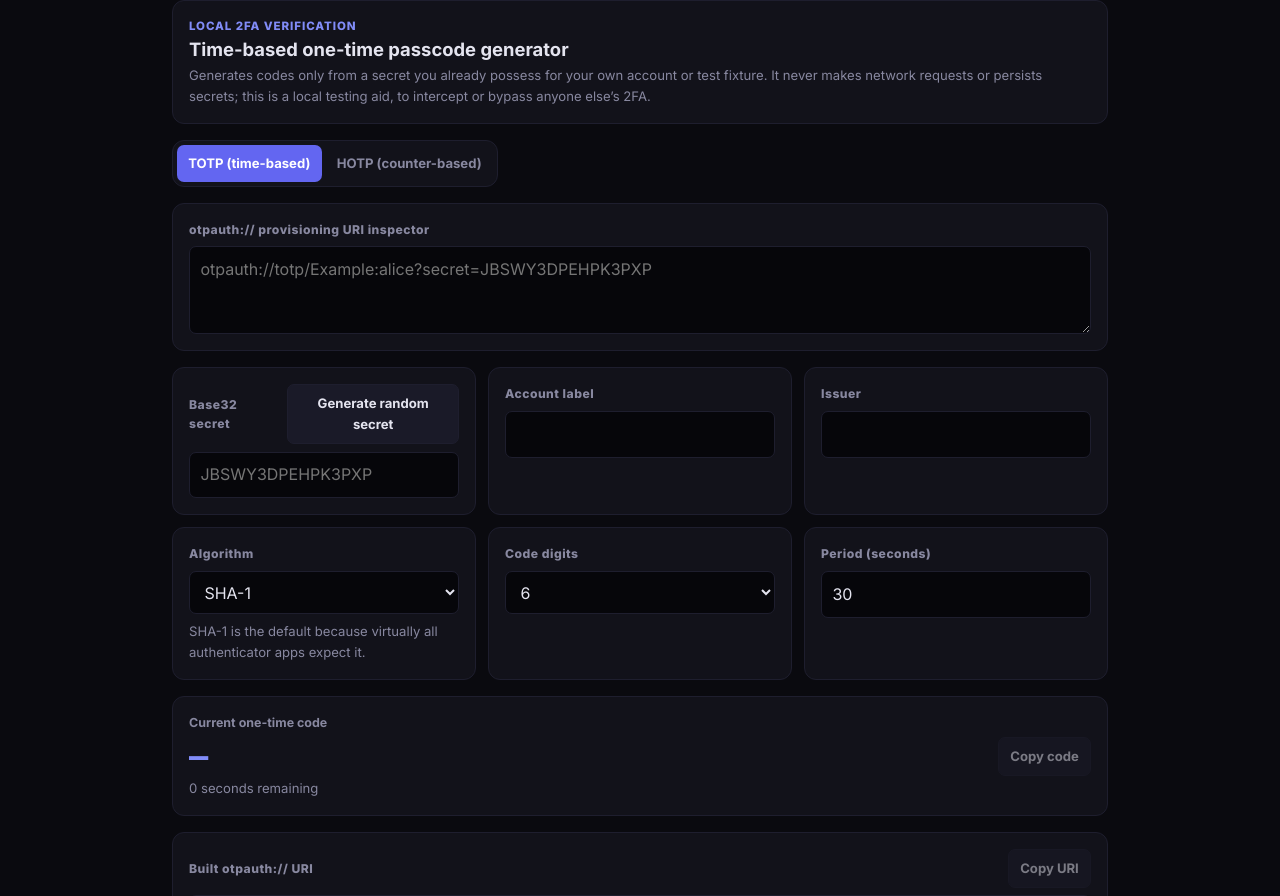
Test: TotpTool › shows a live TOTP code and countdown rollover at a period boundary
The image size is (1280, 896).
Step 1. Type "JBSWY3DP" into the field labelled "Base32 secret" → (324, 475), box 189,452 -> 459,498
Wait 251 ms
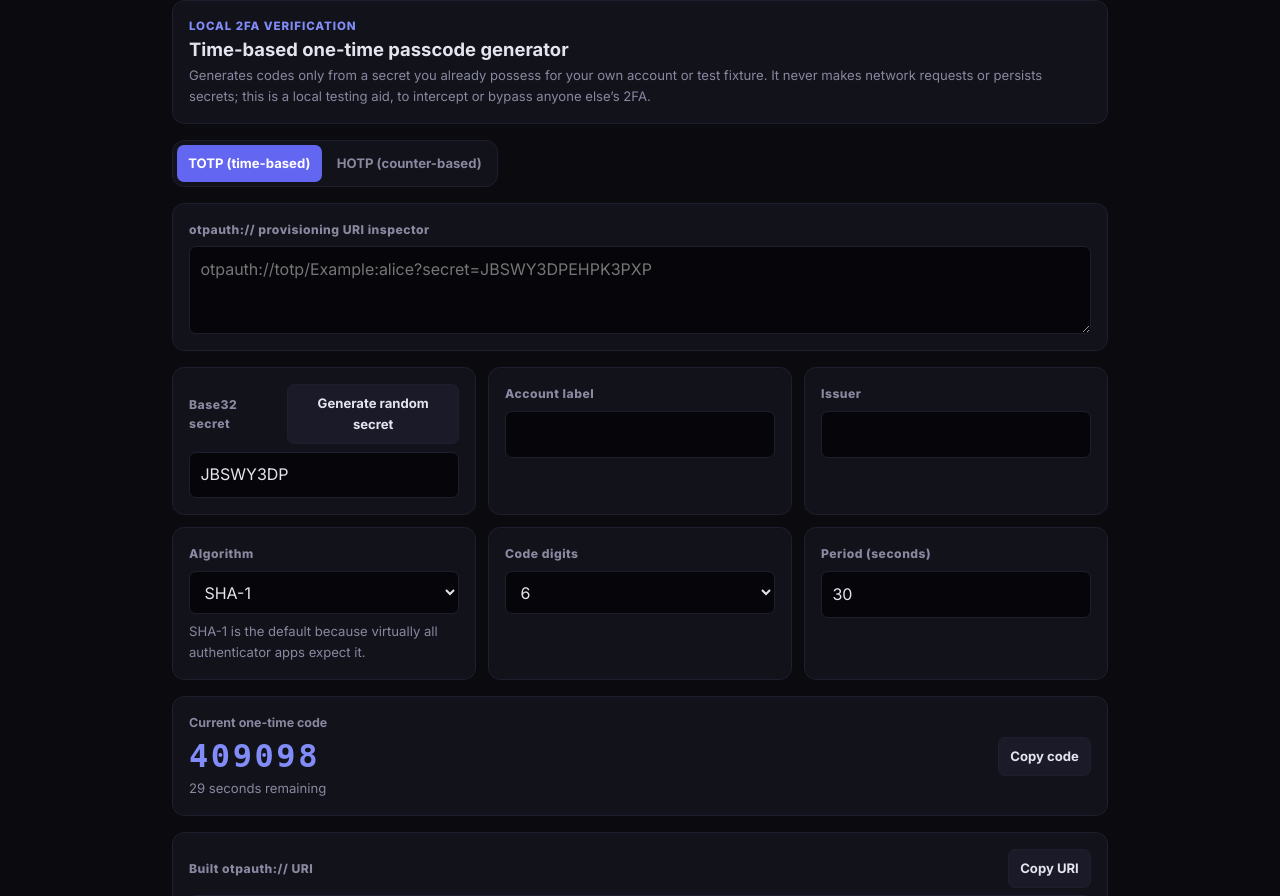
expect the text "29 seconds remaining" is shown: met, box 189,778 -> 327,799
expect the text labelled "Current one-time code" no longer shows "—": met
